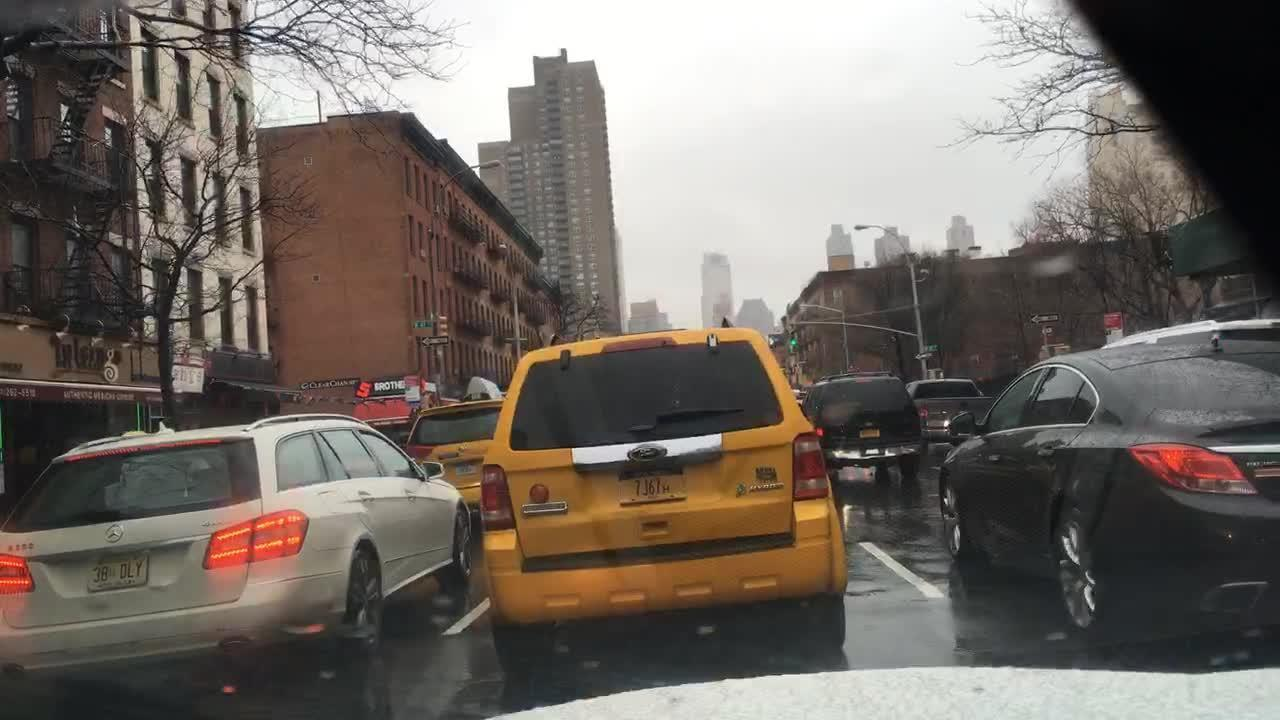Mercedes: (104, 525, 128, 542)
ford: (624, 439, 667, 468)
